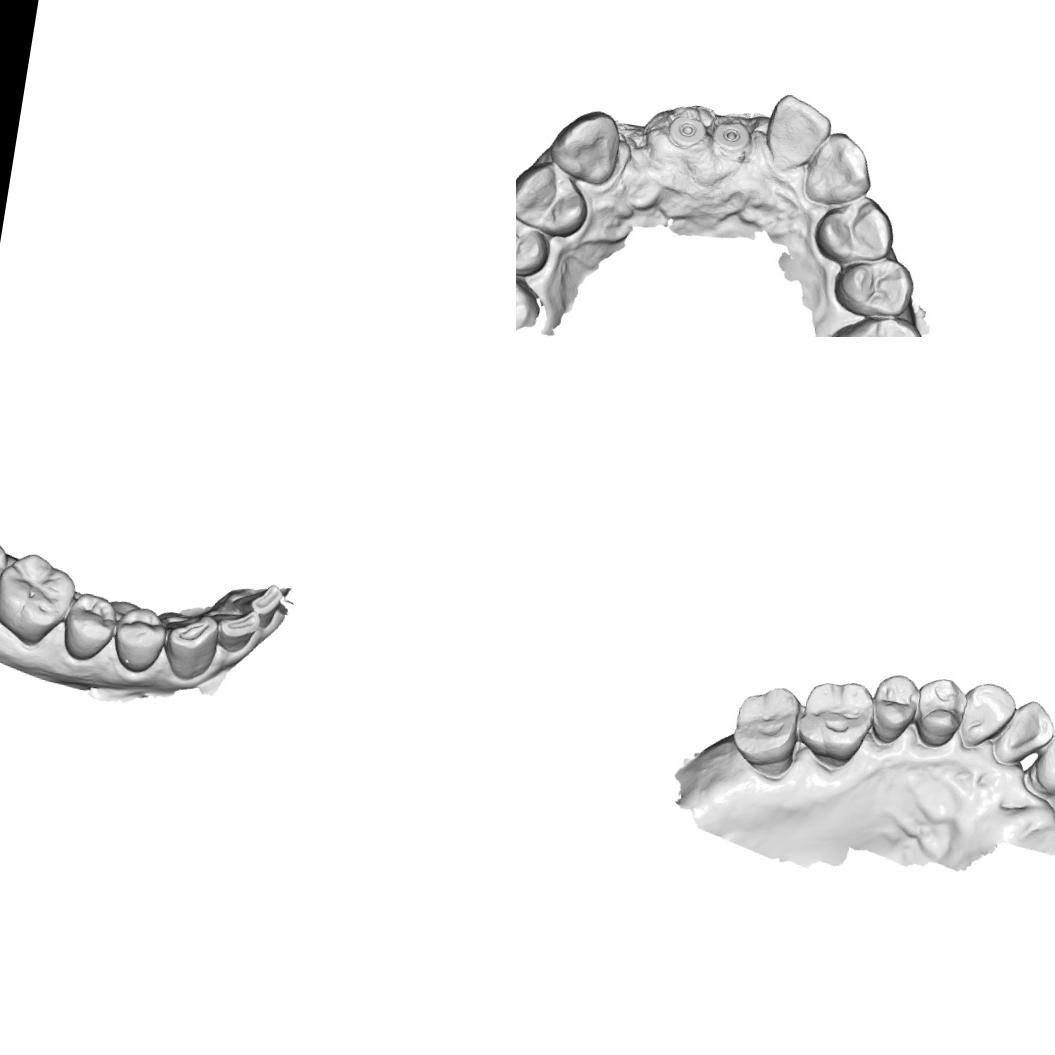canine: (544, 102, 628, 188), (801, 125, 879, 213), (158, 608, 222, 686), (957, 677, 1019, 756)
implant: (708, 117, 750, 156), (668, 110, 706, 152)
incisor: (760, 88, 834, 176), (989, 694, 1055, 771), (229, 576, 286, 632), (212, 603, 264, 657), (1030, 726, 1055, 799)
molar: (790, 672, 878, 773), (0, 547, 82, 654), (724, 681, 806, 782), (825, 302, 930, 337), (516, 259, 542, 337)
premolar: (810, 190, 897, 272), (516, 154, 594, 240), (830, 248, 918, 322), (55, 588, 121, 664), (107, 604, 171, 678), (865, 670, 924, 750), (911, 674, 971, 752), (516, 205, 553, 280)
